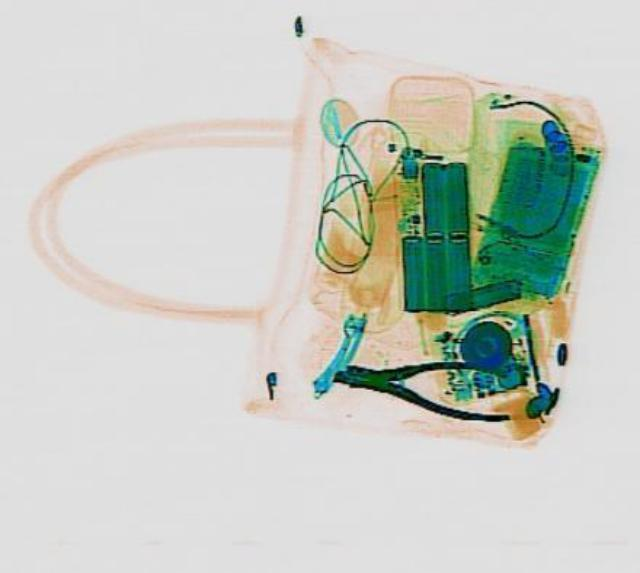Pliers: (324, 340, 518, 423)
